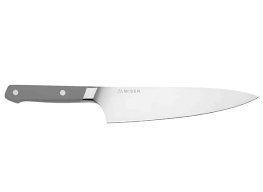knife: (3, 76, 263, 124)
